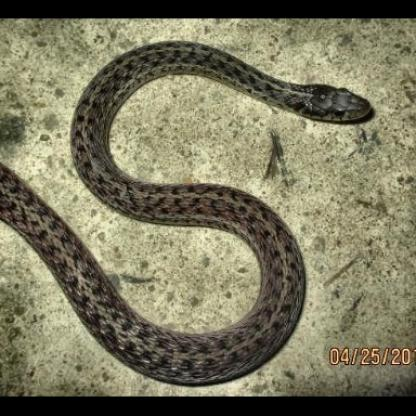Snake: (2, 36, 376, 388)
